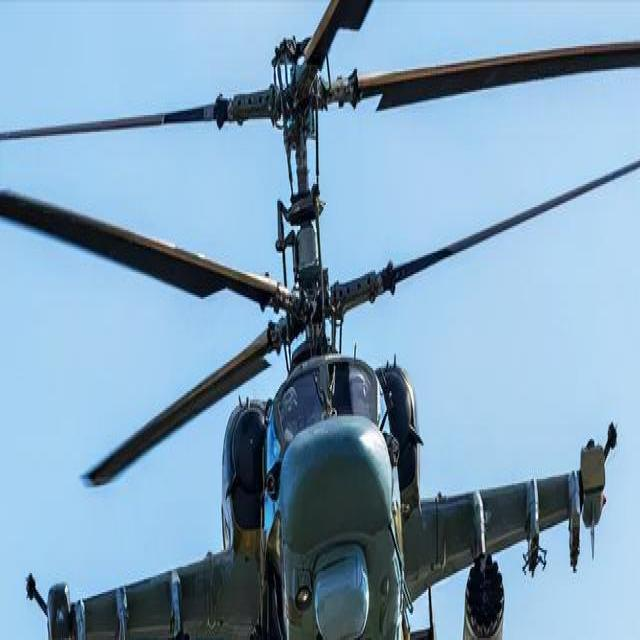MIL_HELO: (8, 0, 640, 640)
